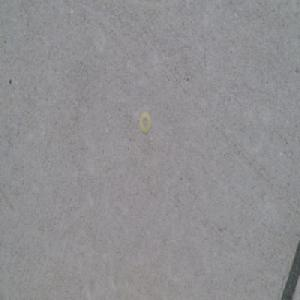Washer: (140, 110, 152, 134)
